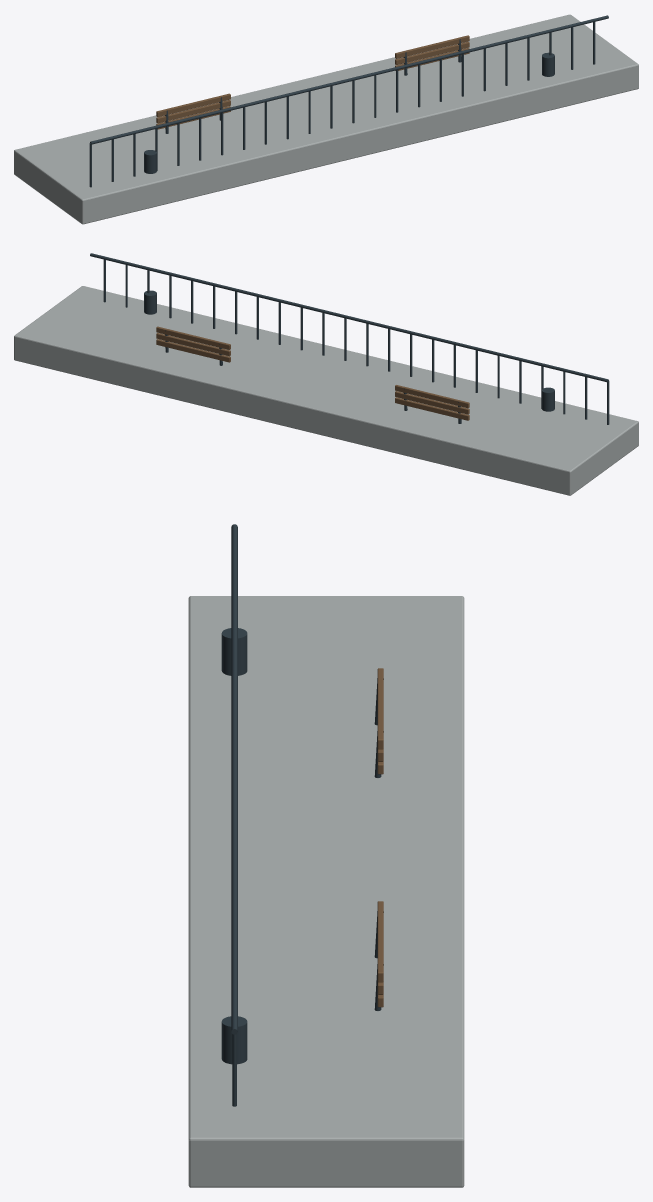
Rendered from riverside-rail.glb.
3 renders of one model, top to bottom at view 1: azimuth 30°, elevation 25°; view 2: azimuth 150°, elevation 25°; view 3: azimuth 270°, elevation 25°, orthographic. The views are drawn at different scales.
Parts seen in each view (by area): view 1: DC_Mesh_DC_Concrete, DC_Mesh_DC_Steel, DC_Mesh_DC_Wood; view 2: DC_Mesh_DC_Concrete, DC_Mesh_DC_Steel, DC_Mesh_DC_Wood; view 3: DC_Mesh_DC_Concrete, DC_Mesh_DC_Steel, DC_Mesh_DC_Wood.
Boxes of the visible parts, x1,y1,x2,y2 form: DC_Mesh_DC_Concrete: [14, 14, 638, 224]; DC_Mesh_DC_Steel: [89, 15, 608, 187]; DC_Mesh_DC_Wood: [156, 35, 469, 129]; DC_Mesh_DC_Concrete: [14, 286, 638, 495]; DC_Mesh_DC_Steel: [90, 253, 609, 424]; DC_Mesh_DC_Wood: [156, 326, 469, 420]; DC_Mesh_DC_Concrete: [188, 596, 464, 1187]; DC_Mesh_DC_Steel: [221, 524, 383, 1106]; DC_Mesh_DC_Wood: [377, 668, 383, 1007].
Bounding box in the file's own units: 14 × 1.69 × 3.
